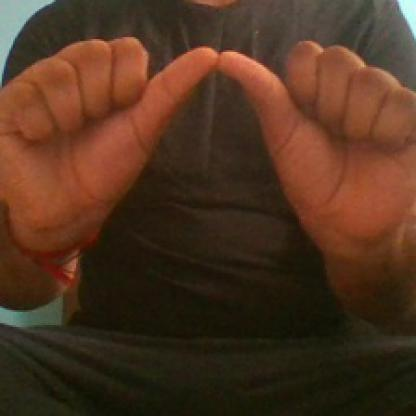A: (0, 35, 414, 260)
